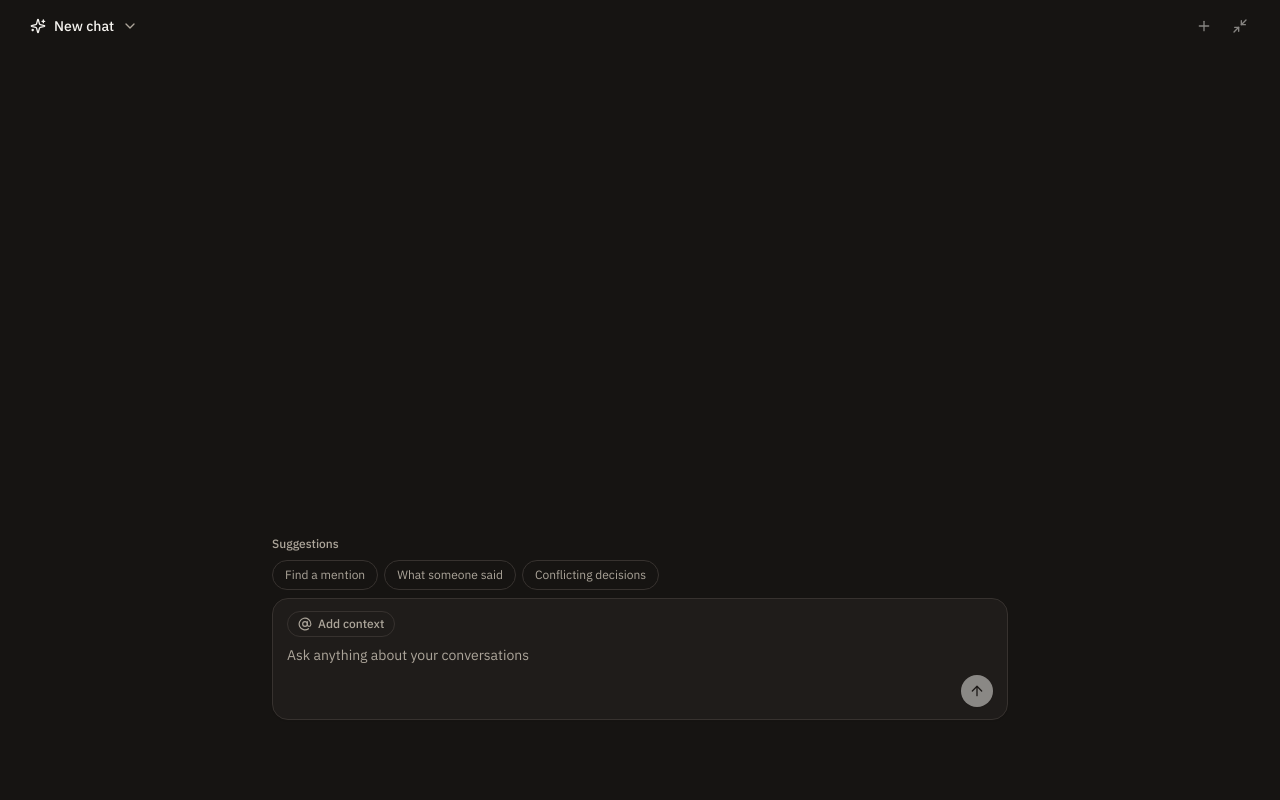
Test: a starter chip that is an opening rather than a question › puts it in the composer instead of sending it
Click the button "Find a mention": (325, 575) [272,560,378,590]
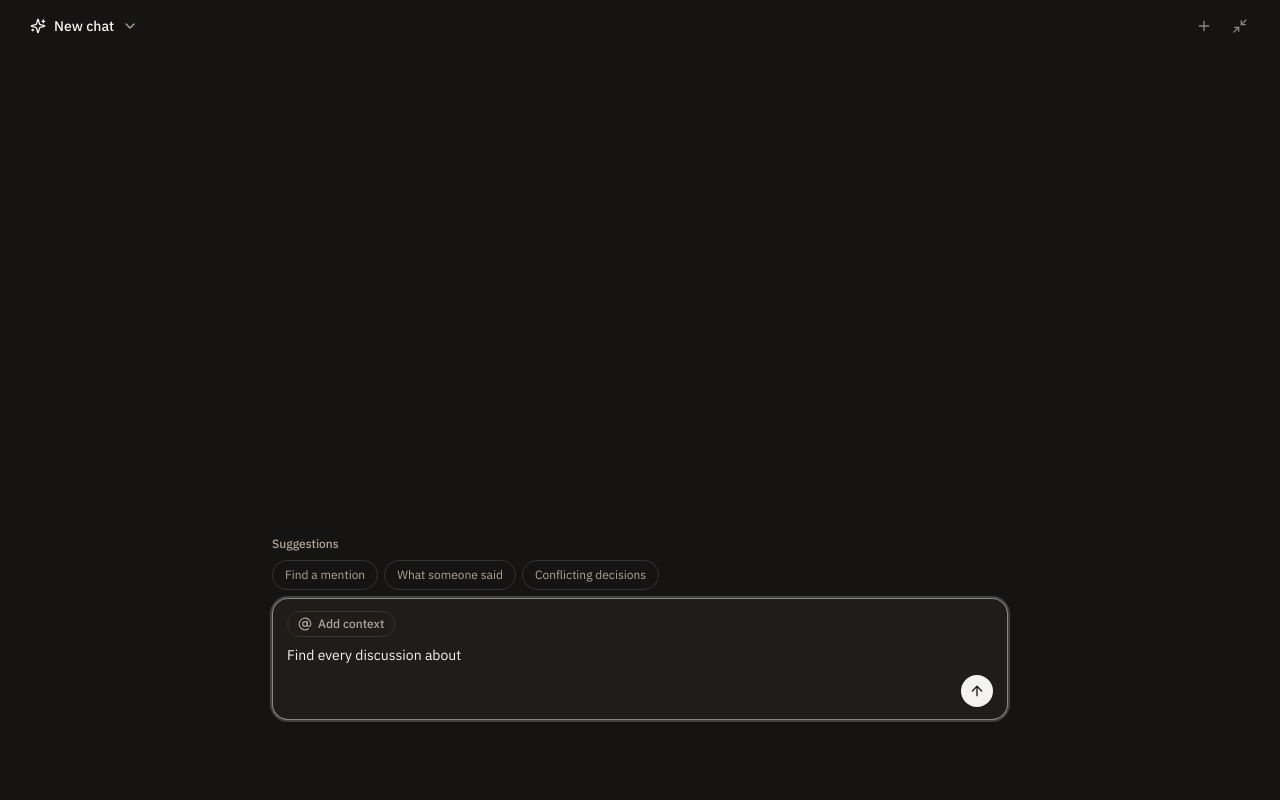
Check: the text box named "Ask a question" holds "Find every discussion about ", box [273,637,1007,673]
